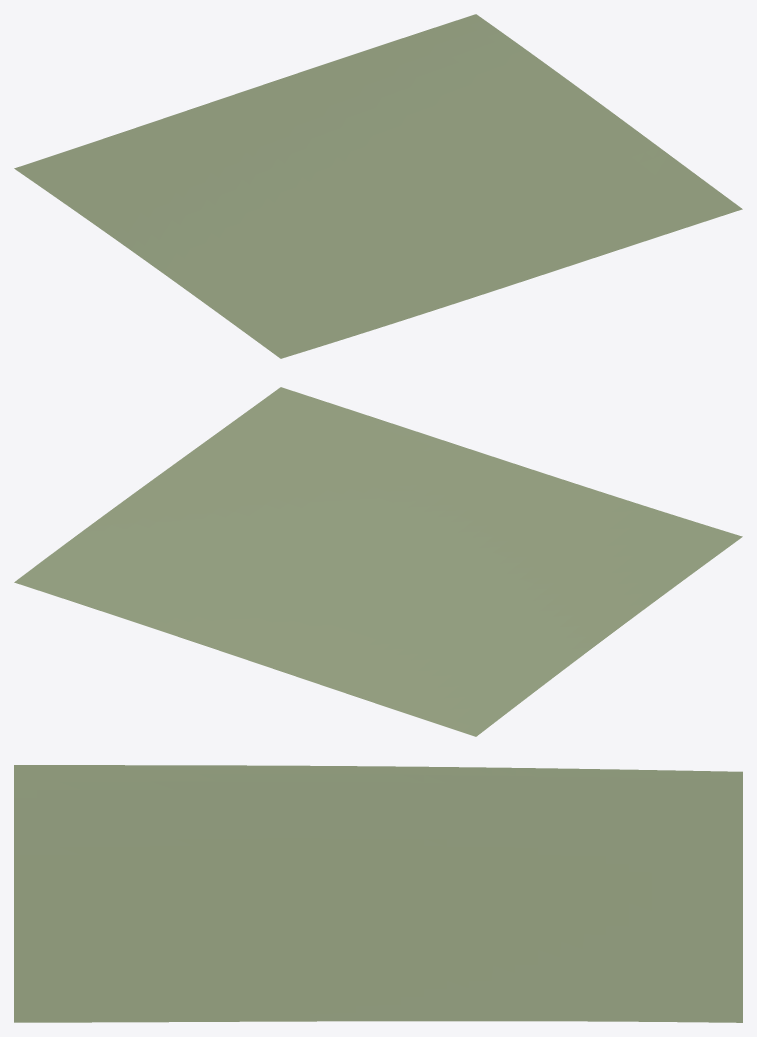
Rendered from expanse-10-7.glb.
3 renders of one model, top to bottom at view 1: azimuth 30°, elevation 25°; view 2: azimuth 150°, elevation 25°; view 3: azimuth 270°, elevation 25°, orthographic. The views are drawn at different scales.
Visible parts, largest first — view 1: expanse-10-7; view 2: expanse-10-7; view 3: expanse-10-7.
Part boxes in pixels (bbox=[...]): expanse-10-7: bbox=[14, 14, 742, 358]; expanse-10-7: bbox=[14, 387, 742, 736]; expanse-10-7: bbox=[14, 765, 742, 1022].
Size of the model in its own units: 256 by 22.75 by 256.
